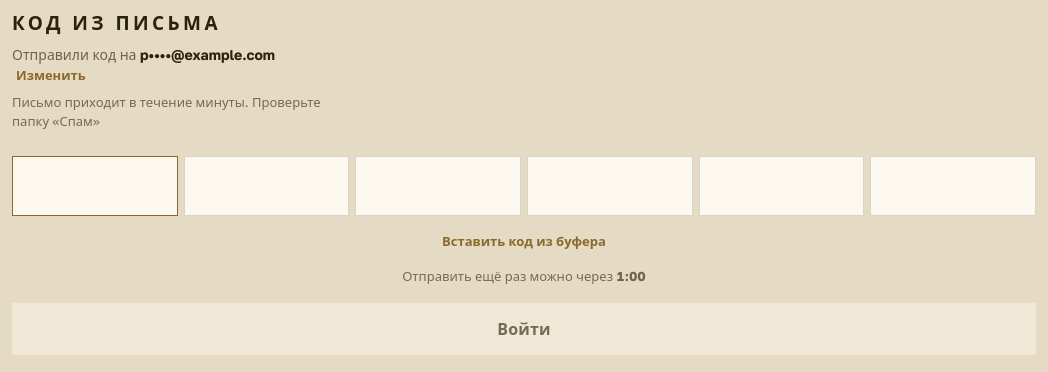
Test: CodeStep › автоподстановка кладёт весь код в одно поле — разносим по клеткам
Type "474747" into the field named "Цифра 1".
click(95, 186); type("474747")  # box [12,156,178,216]
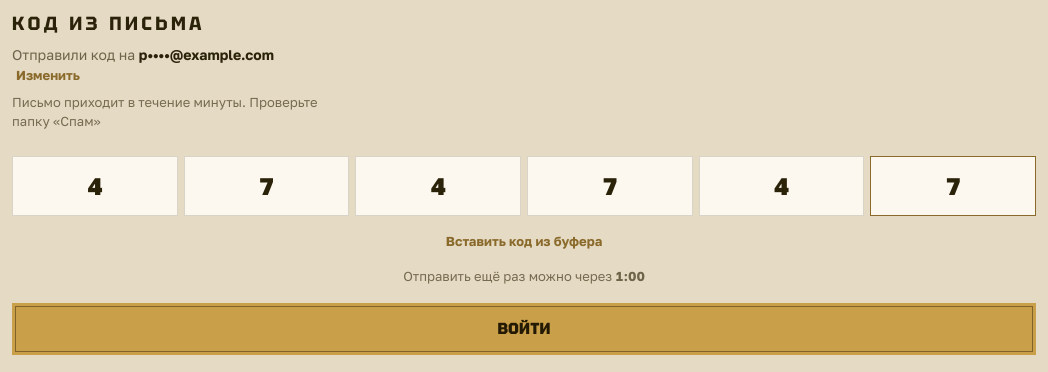
Result: the field named "Цифра 6" holds "7" at [870,156,1036,216]
